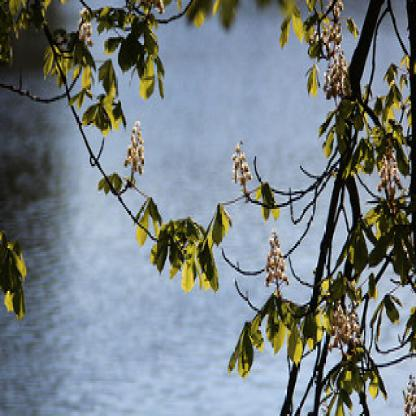TULIP: (39, 9, 409, 380)
